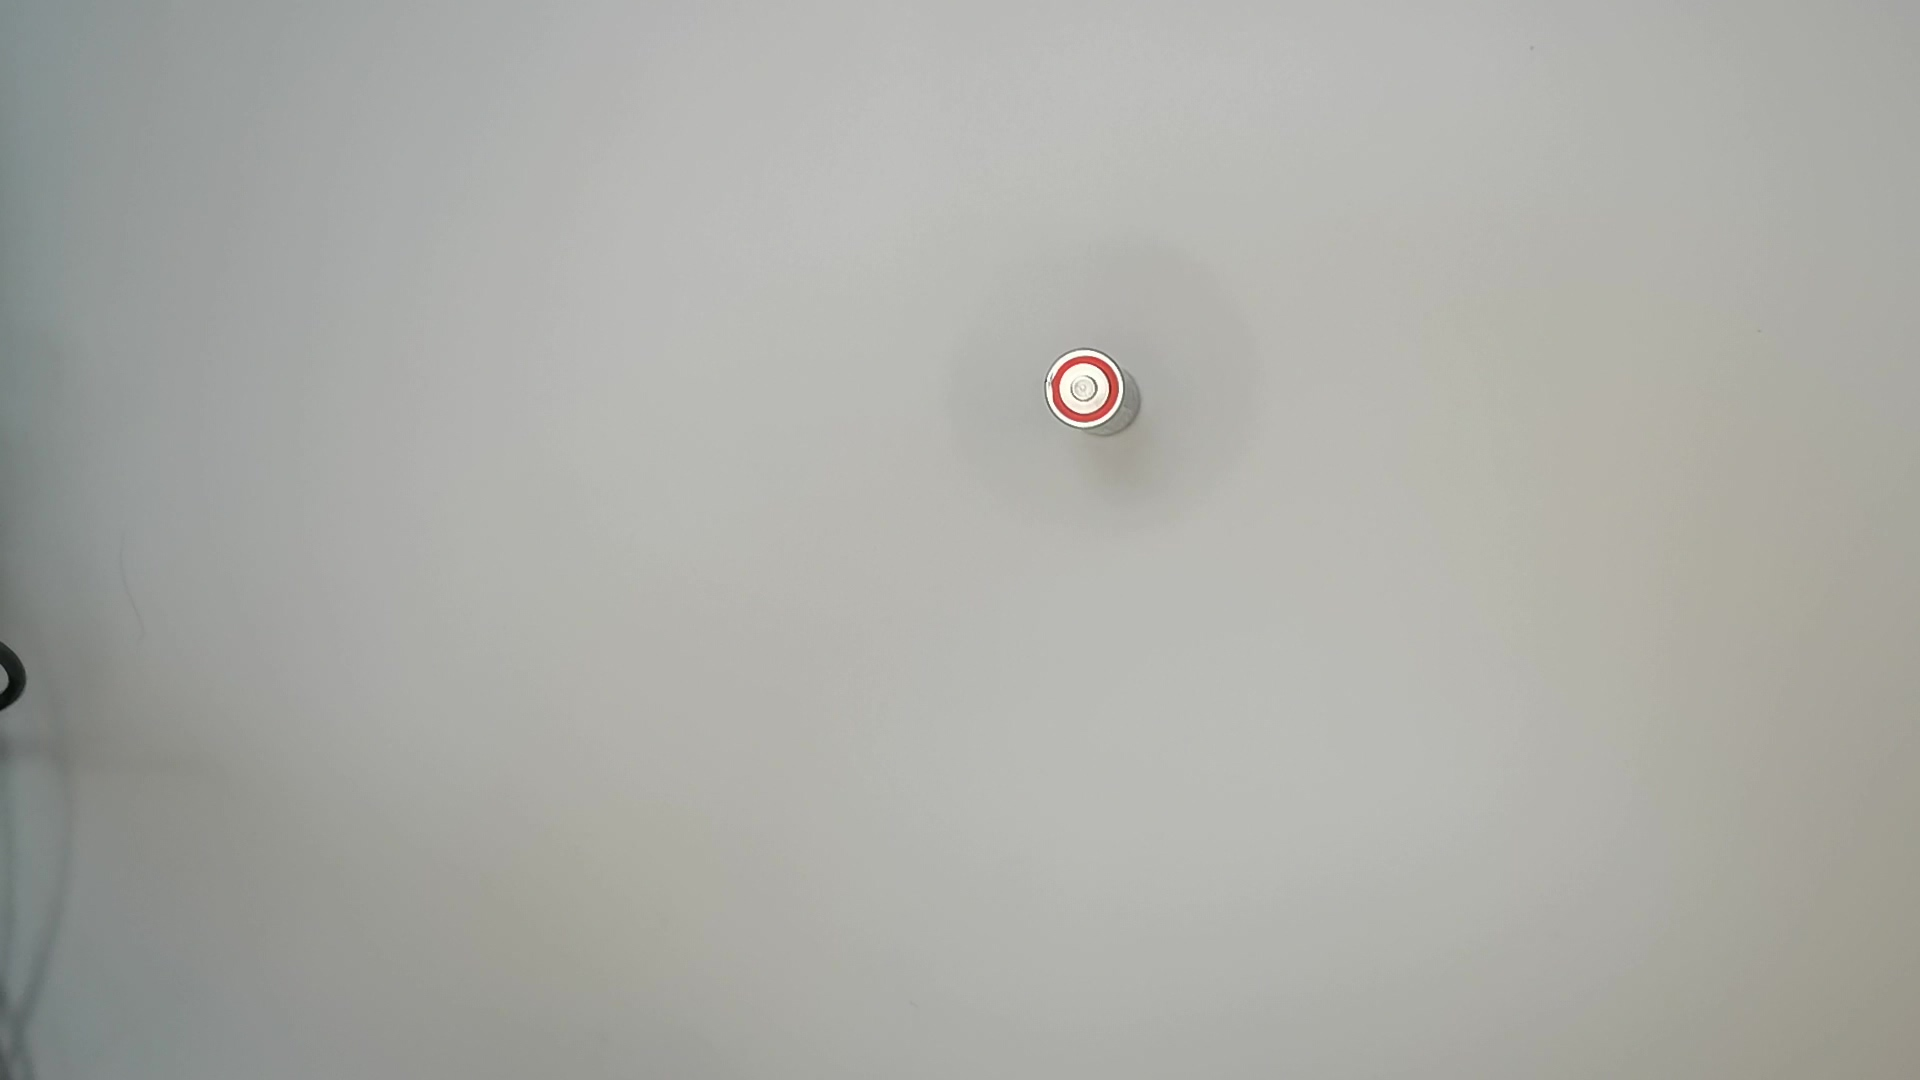battery: (1040, 345, 1141, 444)
